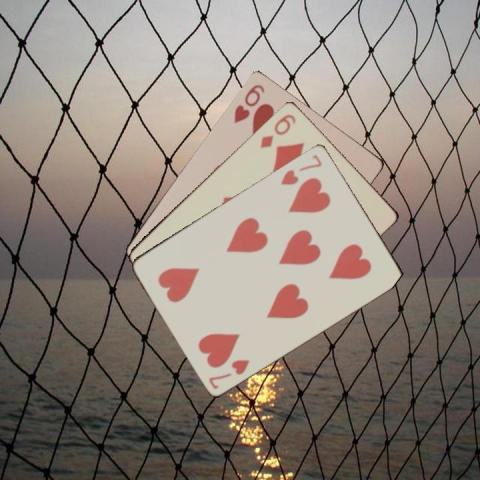6d: (257, 111, 297, 149)
6h: (231, 81, 266, 124)
7h: (277, 150, 324, 186), (206, 356, 252, 391)
